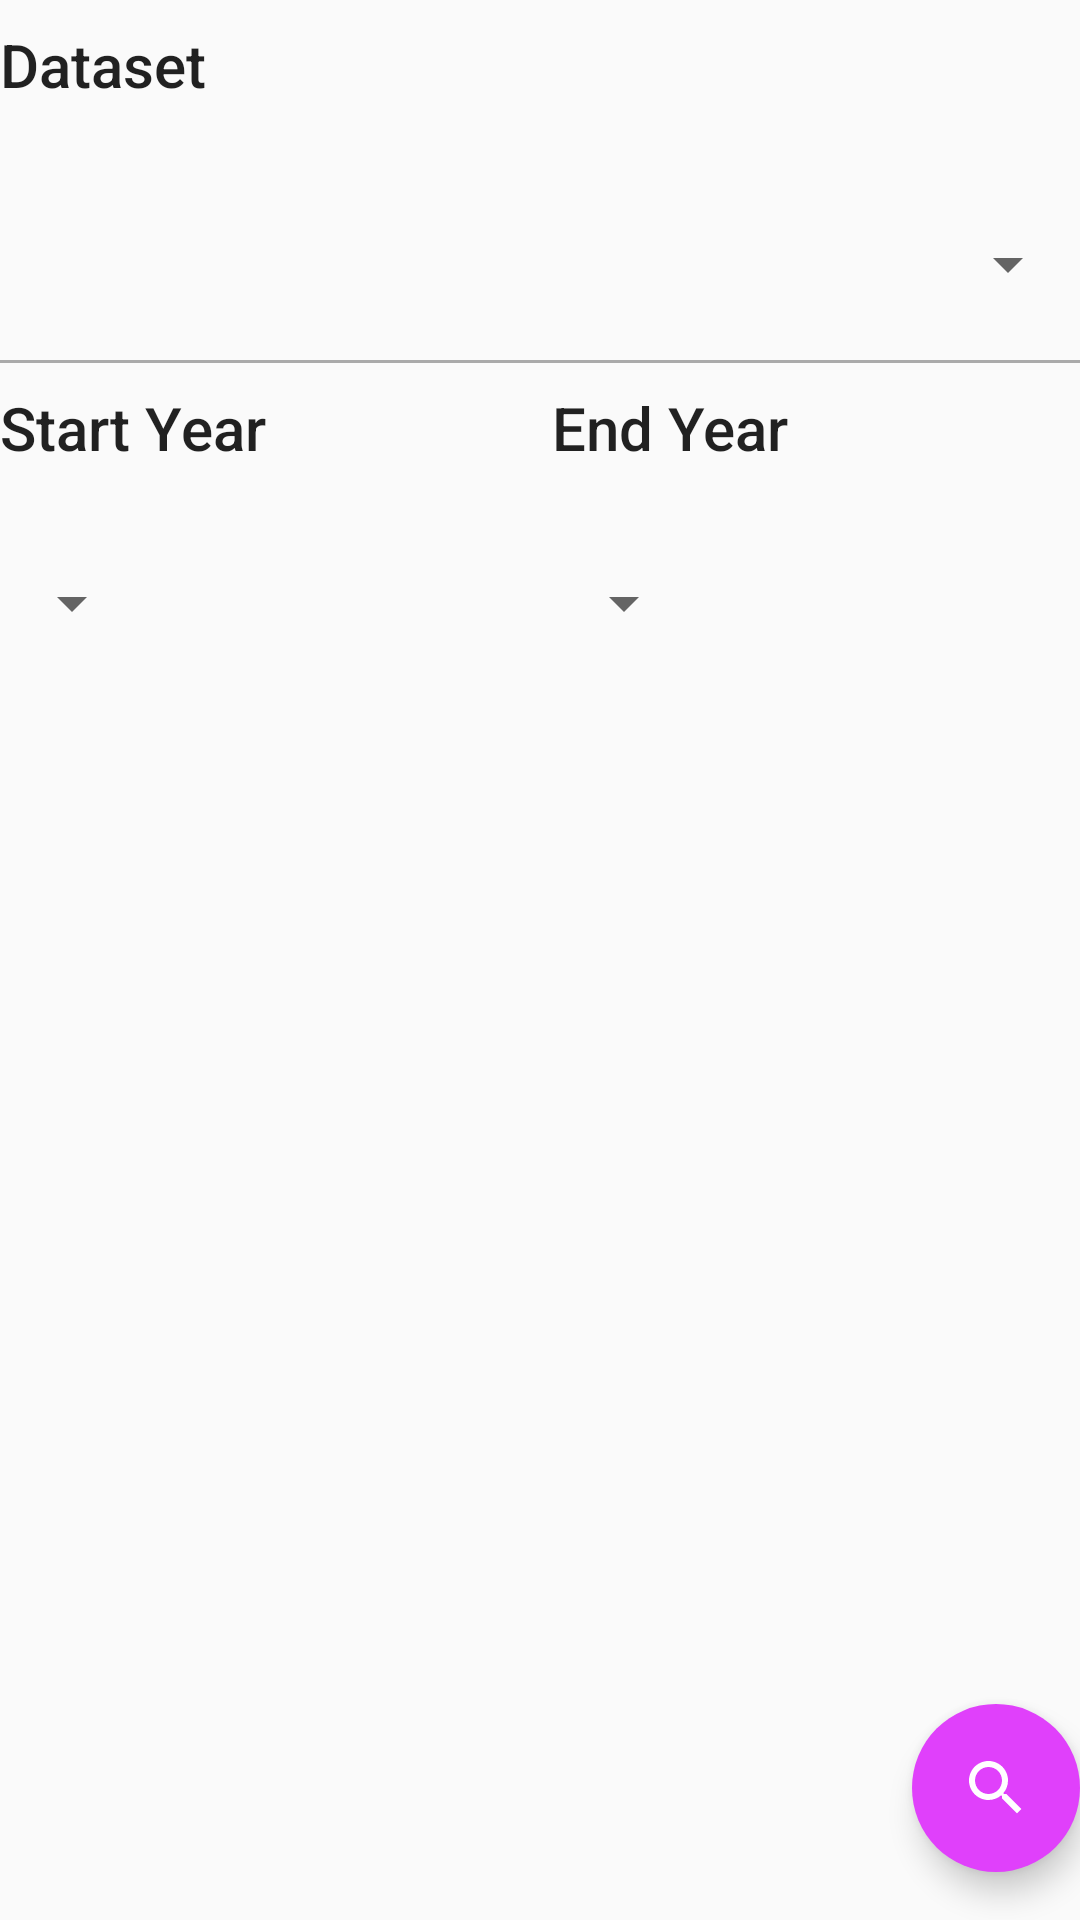

Icon click points for this 1080 x 1920 phone screenshot, format (x,y):
search: (996,1788)
